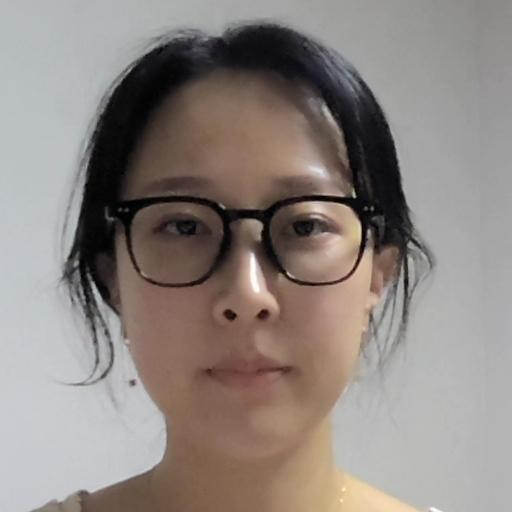no_glasses: (60, 26, 425, 468)
